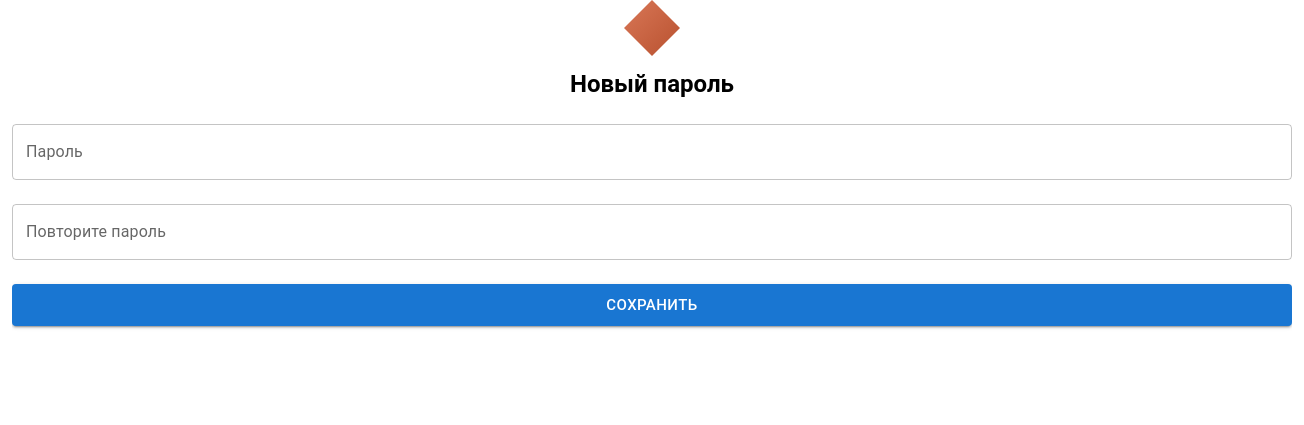
it: ResetConfirmForm › shows a stable reset-token error with a retry link
In the password field labelled "Пароль": [652, 152] box [12,124,1292,180], type "newpass123"
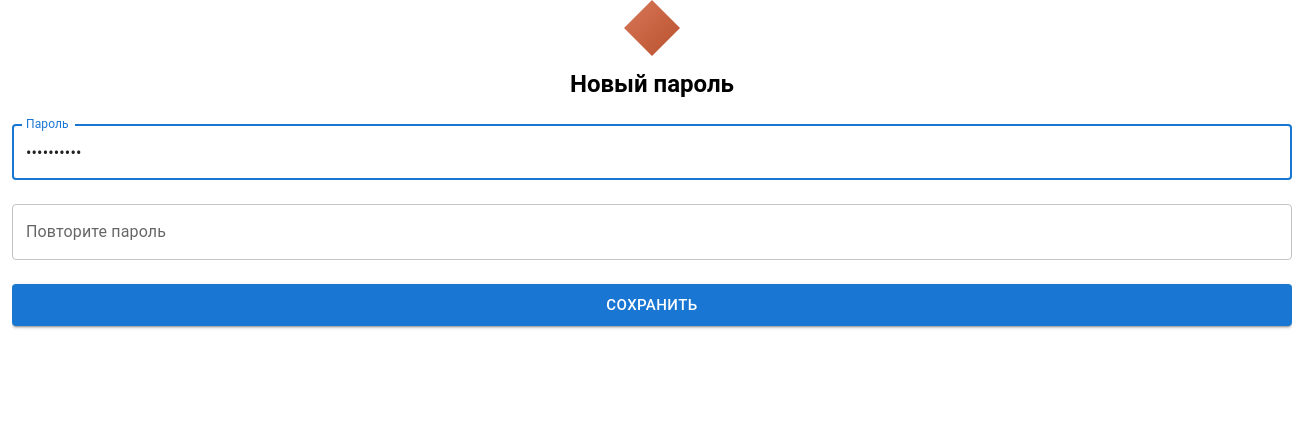
In the password field labelled "Повторите пароль": [652, 232] box [12,204,1292,260], type "newpass123"
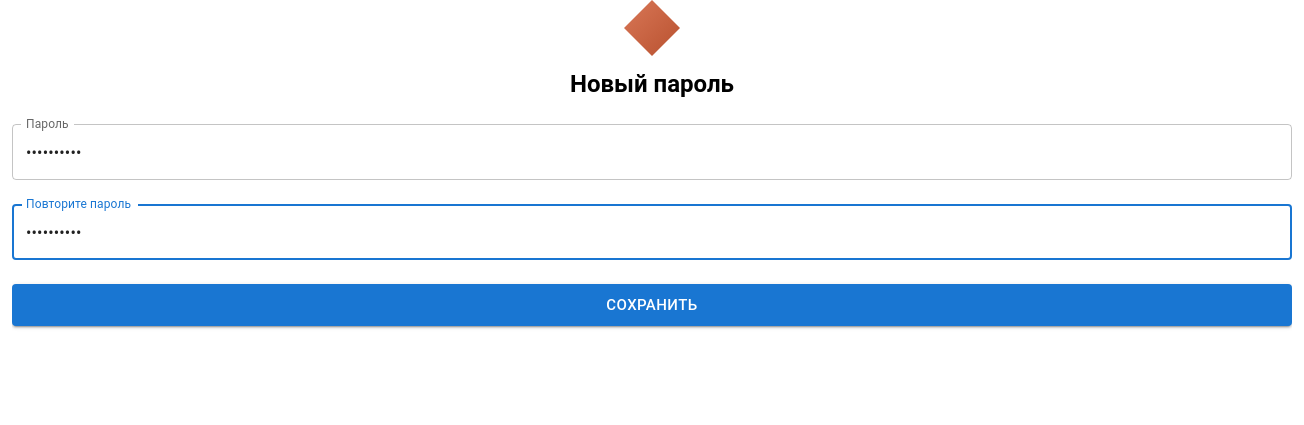
Click the button "Сохранить": [652, 305] box [12,284,1292,326]
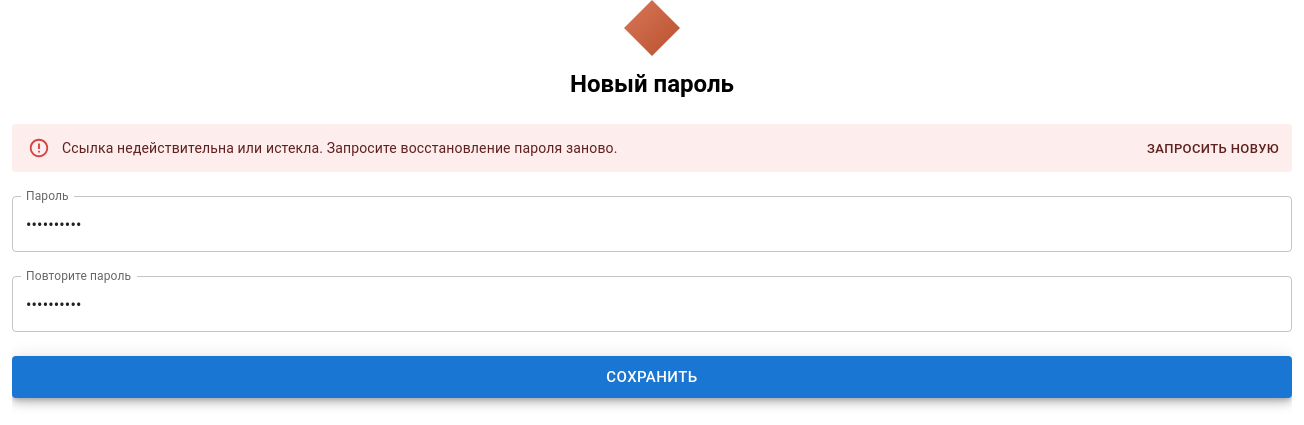
Expected: the text "Ссылка недействительна или истекла" is shown, [62,140,618,156]
